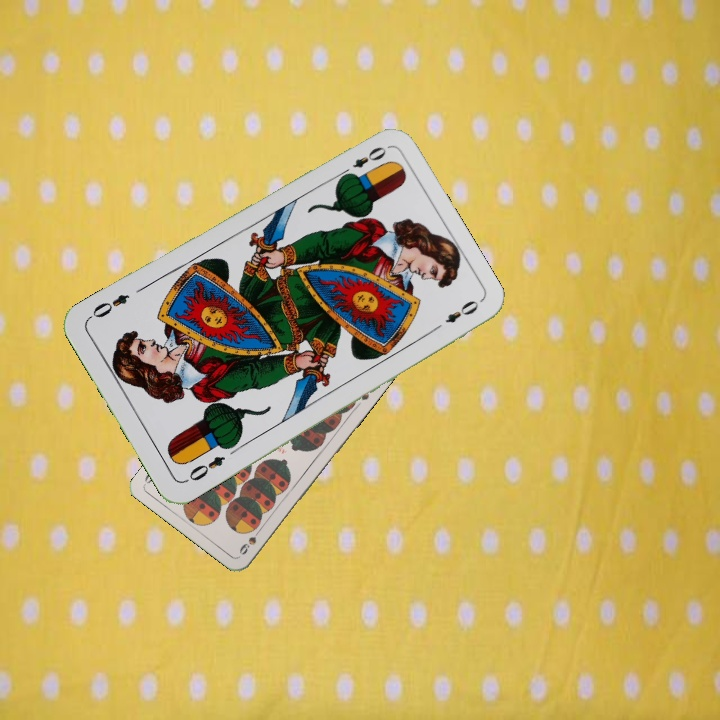EO: (336, 142, 389, 181), (181, 452, 228, 486)
S9: (235, 523, 265, 558)
